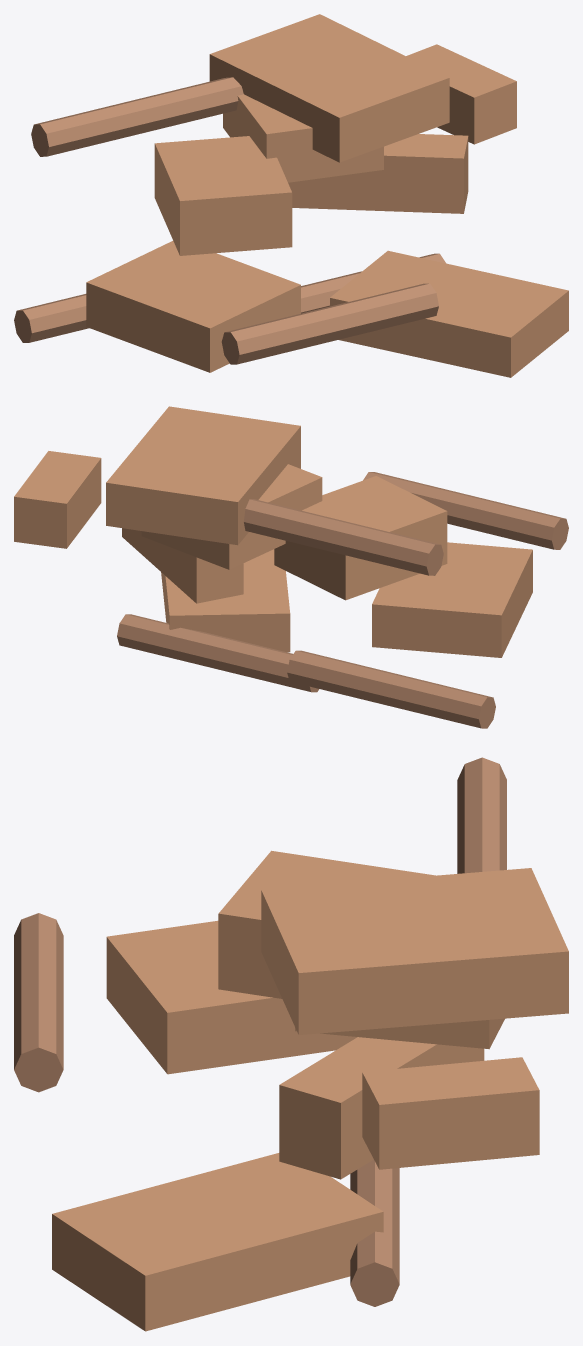
The model's file is scrap_pile_03.glb.
3 views of the same model, one above another, from view 1: azimuth 30°, elevation 25°; view 2: azimuth 150°, elevation 25°; view 3: azimuth 270°, elevation 25° (orthographic). The views are drawn at different scales.
Visible parts, largest first — view 1: scrap4, scrap10, scrap2, scrap8, scrap5, pipe3, pipe6, scrap1, scrap7, pipe9, pipe0; view 2: scrap4, scrap10, scrap8, scrap2, pipe9, pipe6, scrap7, pipe0, pipe3, scrap1, scrap5; view 3: scrap4, scrap2, scrap10, scrap7, scrap5, scrap8, pipe3, pipe0, pipe6, scrap1.
Boxes of the visible parts, x1,y1,x2,y2 form: scrap4: (209,14,449,162); scrap10: (86,241,300,372); scrap2: (330,250,568,377); scrap8: (154,136,292,255); scrap5: (288,134,468,213); pipe3: (221,283,438,364); pipe6: (31,77,243,156); scrap1: (223,94,383,182); scrap7: (406,44,516,144); pipe9: (14,294,89,342); pipe0: (301,253,446,313); scrap4: (106,406,300,545); scrap10: (372,542,532,657); scrap8: (274,476,447,600); scrap2: (161,549,290,652); pipe9: (287,650,495,728); pipe6: (243,499,443,575); scrap7: (14,451,101,548); pipe0: (117,614,319,692); pipe3: (363,472,568,549); scrap1: (141,464,322,569); scrap5: (122,528,243,603); scrap4: (261,868,568,1034); scrap2: (52,1153,383,1331); scrap10: (106,920,357,1074); scrap7: (362,1057,539,1169); scrap5: (279,1037,484,1179); scrap8: (218,850,435,998); pipe3: (14,913,63,1092); pipe0: (350,1159,399,1306); pipe6: (457,757,506,873); scrap1: (295,1018,504,1049).
Bounding box in the file's own units: 1.07 × 0.5021 × 0.7841.
